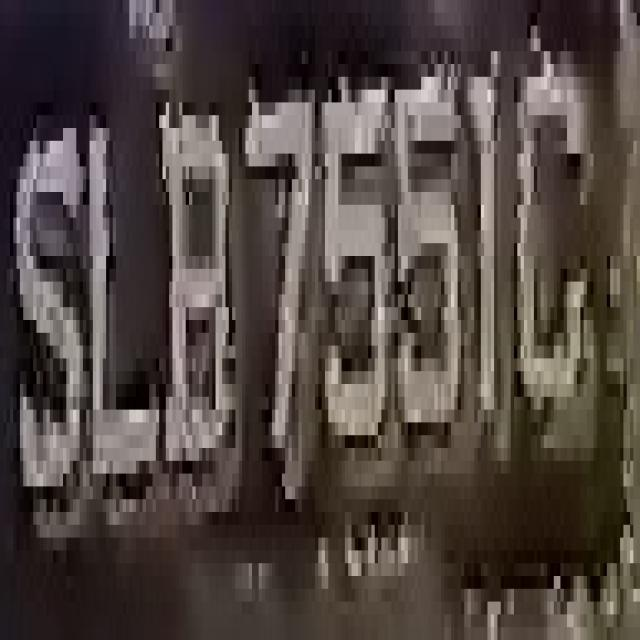1: (471, 51, 501, 448)
5: (388, 26, 468, 435), (325, 77, 391, 486)
7: (239, 77, 315, 435)
B: (156, 102, 235, 461)
C: (508, 38, 590, 461)
L: (73, 90, 179, 538)
S: (6, 77, 90, 525)
